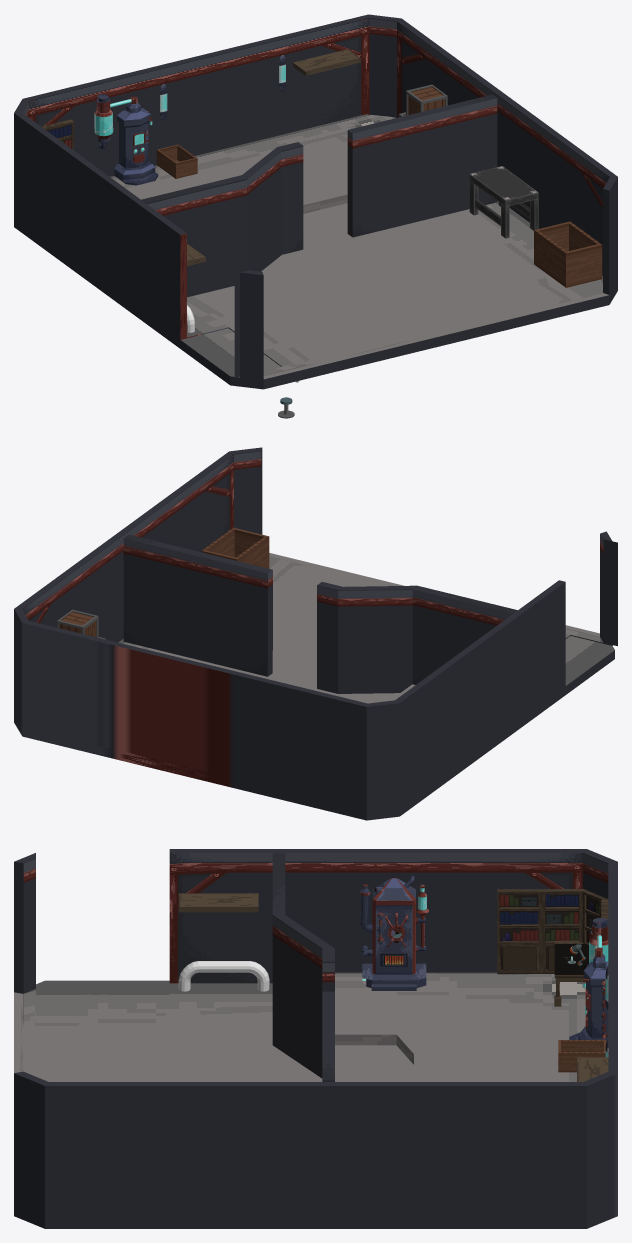
Rendered from 2F No wall.fbx.
3 views of the same model, one above another, from view 1: azimuth 30°, elevation 25°; view 2: azimuth 150°, elevation 25°; view 3: azimuth 270°, elevation 25° (orthographic). The views are drawn at different scales.
Parts seen in each view (by area): view 1: ชั้น2.002, Cube.079, Cube.080, New object.009, Cube.084, Cube.085, Cube.078, Cube.086, Cube.075; view 2: ชั้น2.002, Cube.079, Cube.084, Cube.075; view 3: ชั้น2.002, Cube.080, Cube.079, New object.008, New object.010, New object.009, Cube.087, Plane.005, Cube.078, Cube.086.
Boxes of the visible parts, x1,y1,x2,y2 form: ชั้น2.002: (14, 14, 617, 389); Cube.079: (141, 94, 497, 297); Cube.080: (110, 114, 395, 213); New object.009: (94, 94, 158, 185); Cube.084: (534, 221, 602, 287); Cube.085: (469, 166, 538, 238); Cube.078: (156, 144, 197, 178); Cube.086: (293, 49, 360, 75); Cube.075: (406, 84, 447, 115); ชั้น2.002: (14, 447, 617, 820); Cube.079: (123, 534, 517, 693); Cube.084: (201, 527, 269, 568); Cube.075: (57, 609, 98, 637); ชั้น2.002: (14, 849, 617, 1228); Cube.080: (335, 972, 585, 1081); Cube.079: (272, 853, 334, 1081); New object.008: (497, 889, 608, 1006); New object.010: (360, 875, 428, 990); New object.009: (569, 918, 608, 1039); Cube.087: (178, 893, 258, 912); Plane.005: (178, 961, 269, 991); Cube.078: (558, 1040, 606, 1072); Cube.086: (577, 1057, 608, 1081).
Bounding box in the file's own units: 404 × 214 × 436.
27 materials, 21 textured.
